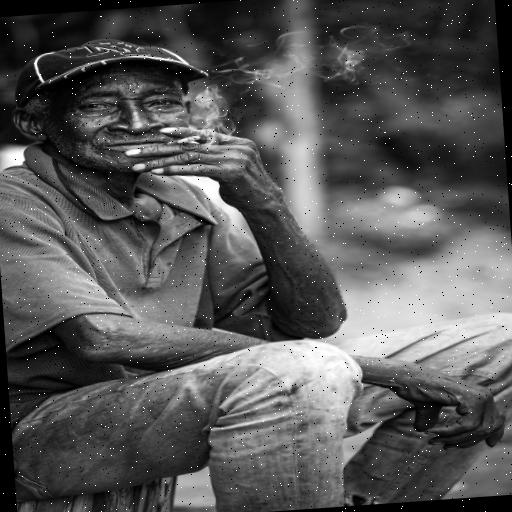dataset-deteksi-merokok: (46, 55, 220, 182)
